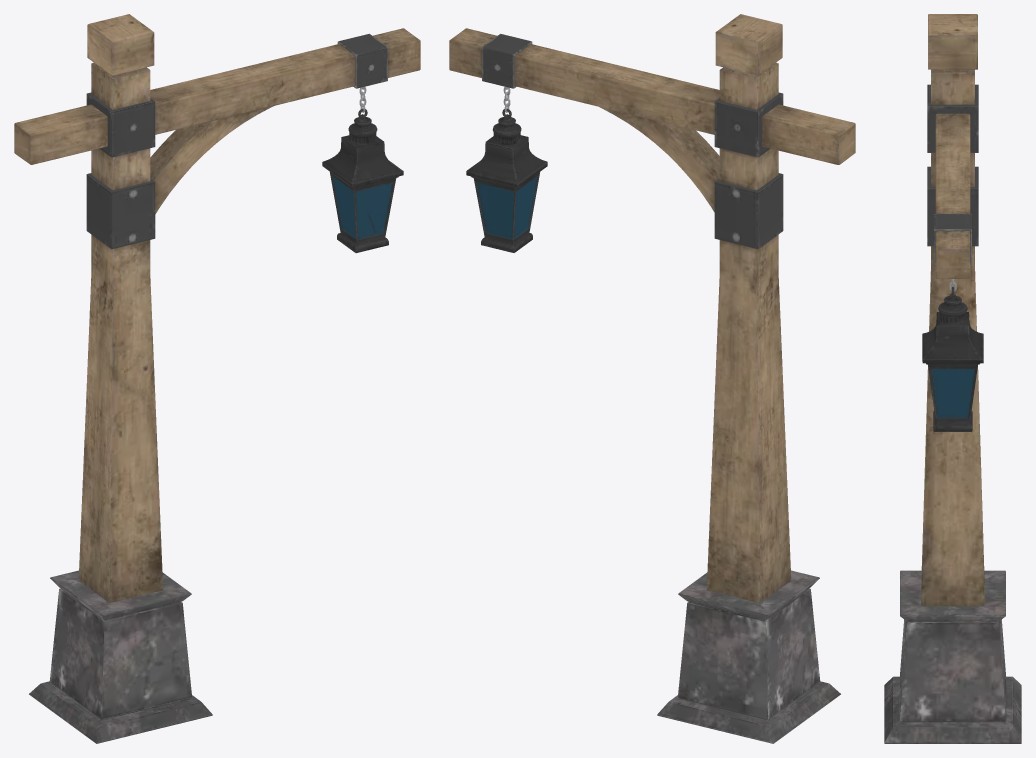
The model's file is lantern.glb.
3 renders of one model, left to right at view 1: azimuth 30°, elevation 25°; view 2: azimuth 150°, elevation 25°; view 3: azimuth 270°, elevation 25°, orthographic.
Parts seen in each view (by area): view 1: LanternPole_Body; view 2: LanternPole_Body; view 3: LanternPole_Body.
Part boxes in pixels (x1,y1,x2,y2): LanternPole_Body: (14, 14, 420, 743); LanternPole_Body: (449, 14, 855, 743); LanternPole_Body: (884, 14, 1021, 743).
Size of the model in its own units: 15.49 by 25.66 by 4.63.
1 material, 1 textured.
